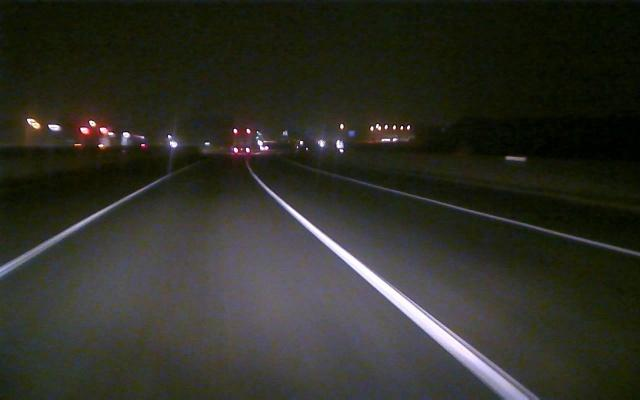lane: (258, 182, 540, 398), (361, 181, 640, 258), (1, 182, 154, 278)
